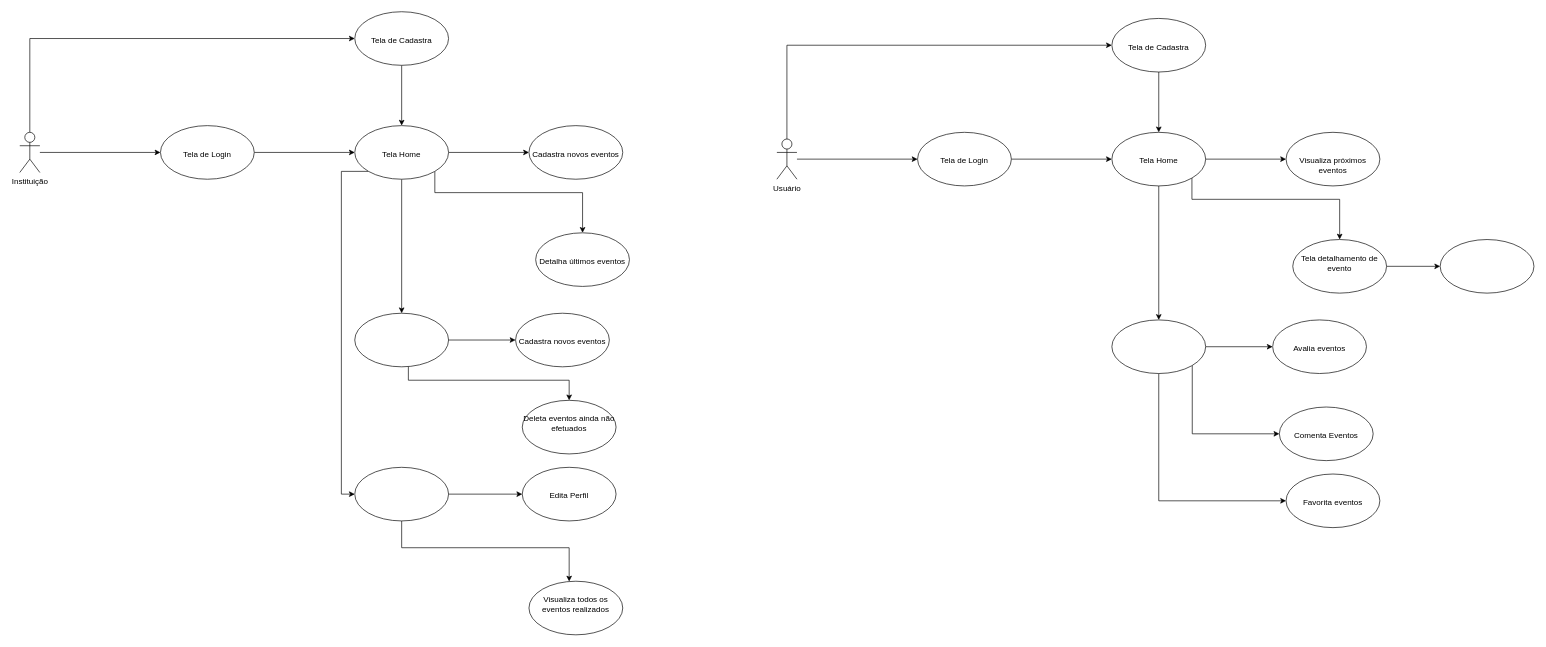
Some shapes in this 1546 by 647 pixel diagram are drawn without their labels. Each missing label, with the centre of its shape:
"Marca presença" goes at (x=1486, y=266).
"Tela eventos visitados" goes at (x=1158, y=346).
"Tela perfil" goes at (x=401, y=494).
"Tela Próximos eventos" goes at (x=401, y=340).
